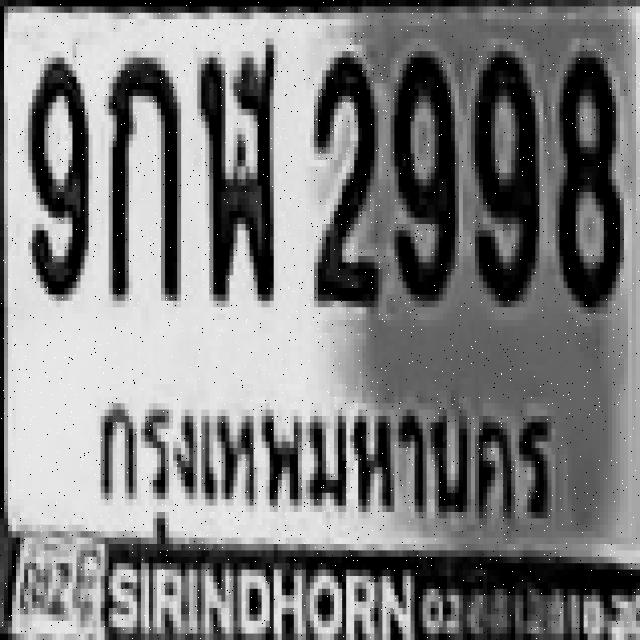10GorGai: (105, 52, 177, 294)
2: (310, 48, 374, 304)
51LorChula: (198, 41, 274, 298)
8: (556, 45, 620, 301)
9: (471, 41, 535, 298), (390, 44, 454, 294), (24, 52, 84, 294)
Bangkok: (89, 380, 569, 556)
